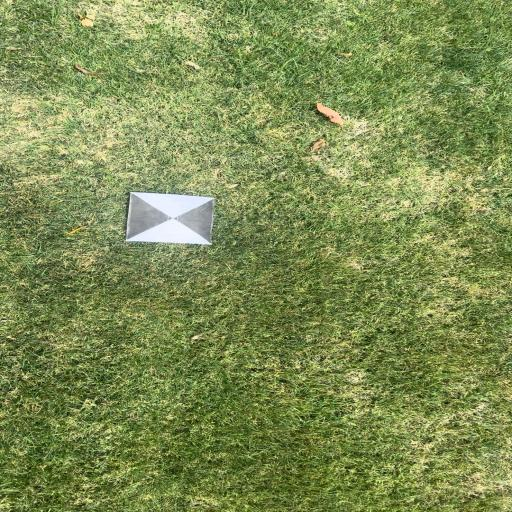target: (126, 192, 214, 243)
